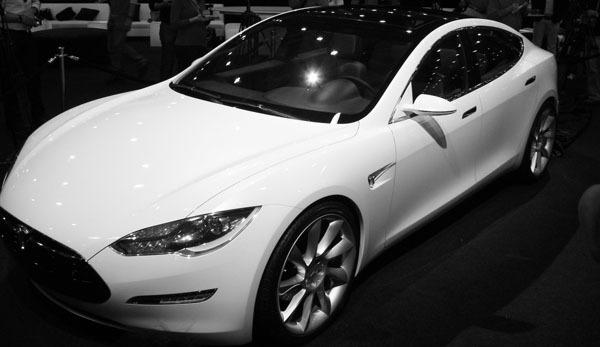car: (6, 8, 567, 342)
